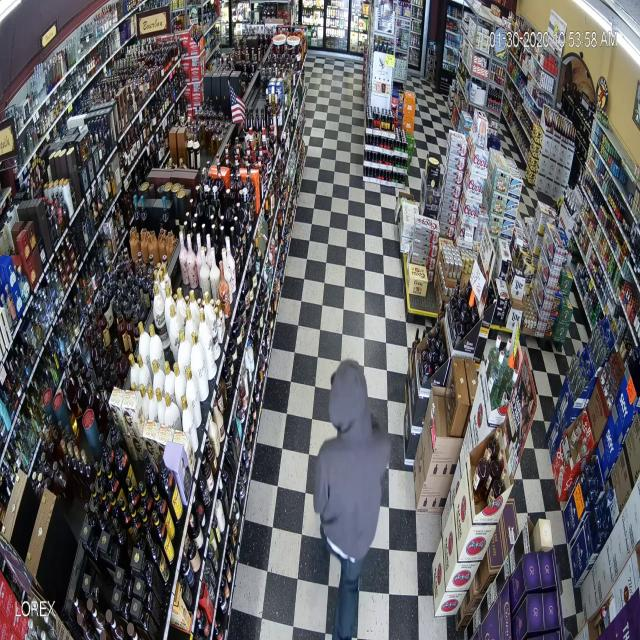normal: (287, 343, 411, 640)
